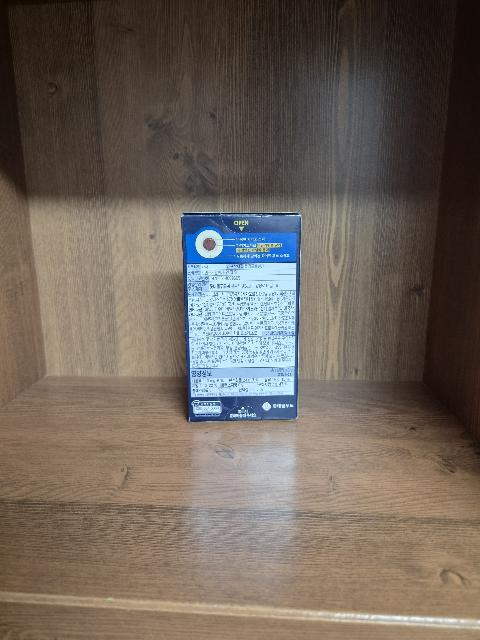pepero: (181, 212, 302, 423)
